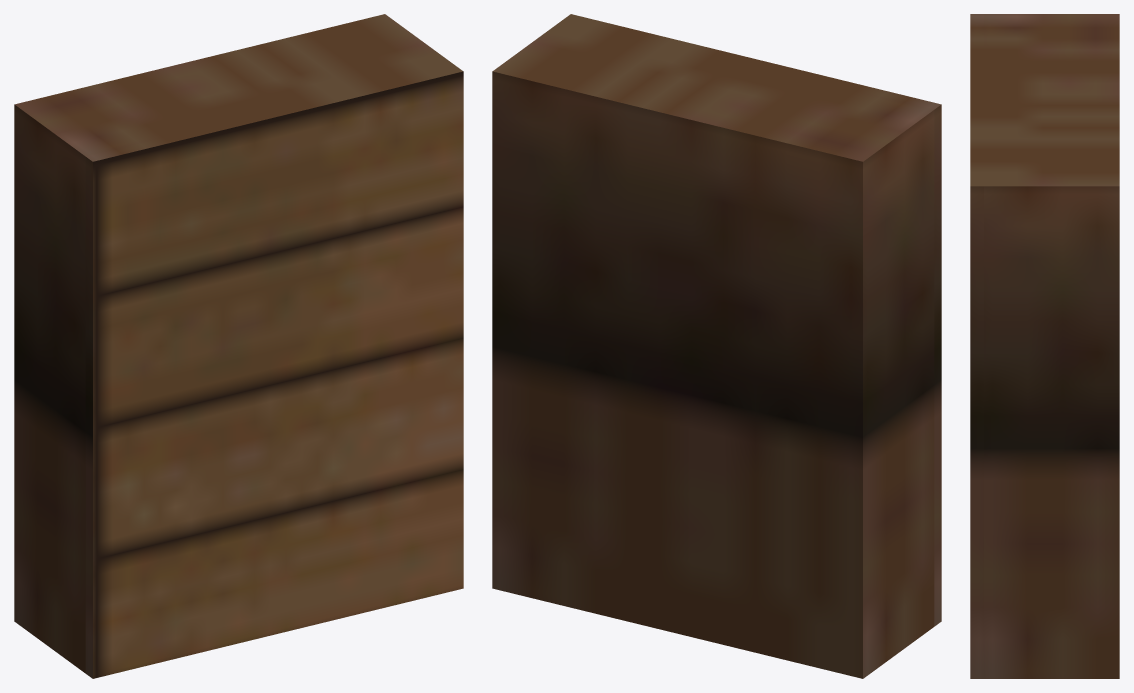
File: fire_cabinet.fbx
3 renders of one model, left to right at view 1: azimuth 30°, elevation 25°; view 2: azimuth 150°, elevation 25°; view 3: azimuth 270°, elevation 25°, orthographic. The views are drawn at different scales.
Parts seen in each view (by area): view 1: fire_cabinet_door, fire_cabinet; view 2: fire_cabinet, fire_cabinet_door; view 3: fire_cabinet, fire_cabinet_door.
Part boxes in pixels (box(x1,y1,x2,y2)): fire_cabinet_door: box(85, 66, 463, 678); fire_cabinet: box(14, 14, 455, 673); fire_cabinet: box(492, 19, 934, 678); fire_cabinet_door: box(564, 14, 941, 626); fire_cabinet: box(984, 14, 1119, 678); fire_cabinet_door: box(970, 14, 983, 678).
Bounding box in the file's own units: 0.6 × 0.8 × 0.22.
